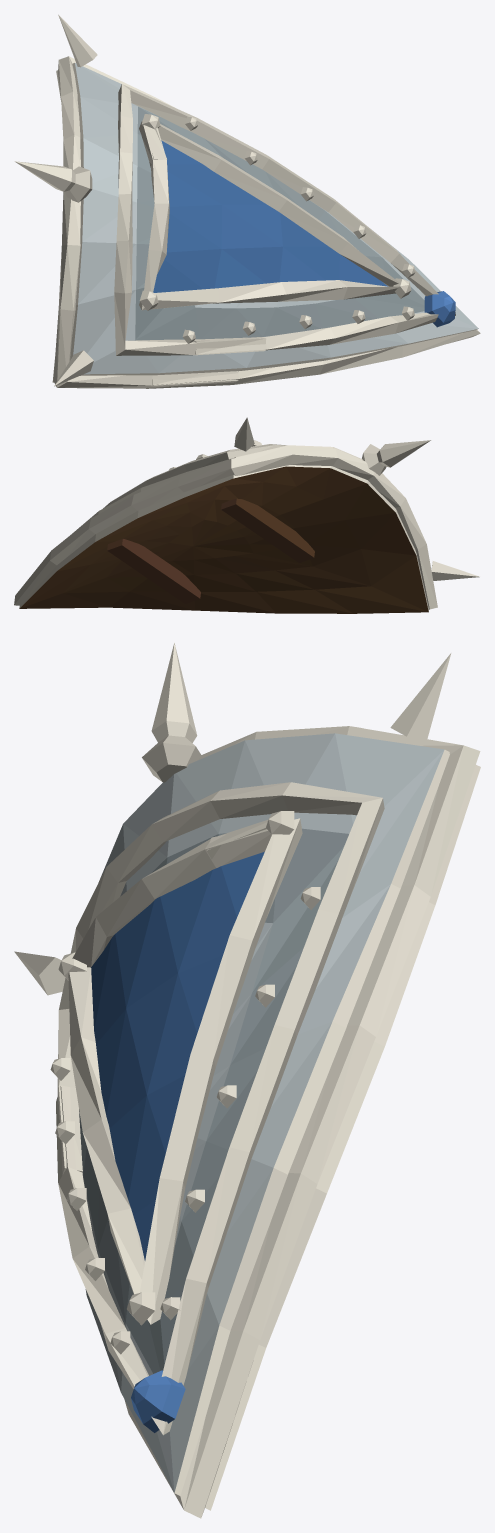
File: armor_shield_bulwark.glb
3 views of the same model, one above another, from view 1: azimuth 30°, elevation 25°; view 2: azimuth 150°, elevation 25°; view 3: azimuth 270°, elevation 25° (orthographic). The views are drawn at different scales.
Visible parts, largest first — view 1: armor_shield_bulwark; view 2: armor_shield_bulwark; view 3: armor_shield_bulwark.
Boxes of the visible parts, box(x1,y1,x2,y2) form: armor_shield_bulwark: box(14, 14, 480, 388); armor_shield_bulwark: box(14, 417, 479, 613); armor_shield_bulwark: box(14, 642, 480, 1518).
Size of the model in its own units: 0.9746 by 0.6847 by 0.4922.
